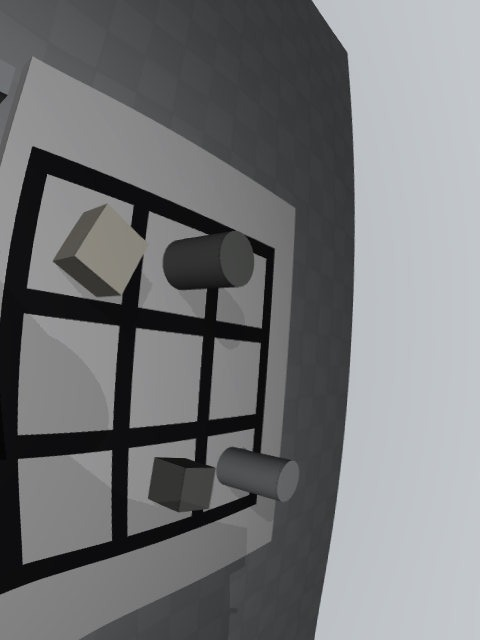can: (216, 447, 300, 502)
cube: (148, 457, 216, 512)
cylinder: (162, 231, 254, 290)
foam: (53, 203, 149, 297)
